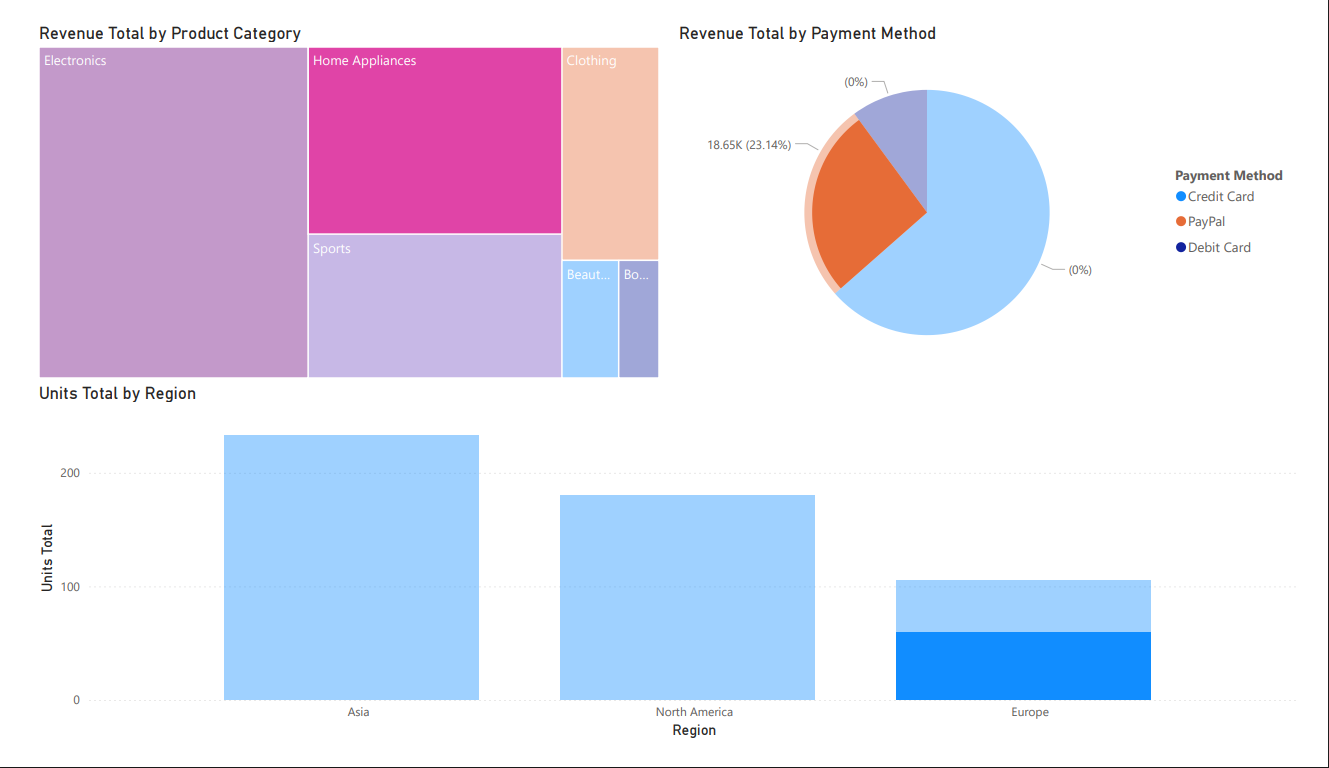

This screenshot's page, from the dashboard's own definition file:
{"tool":"powerbi","page":{"name":"Page 2","canvas":[1280,720],"ordinal":1},"visuals":[{"type":"treemap","fields":{"Group":["Online Sales Data.Product Category"],"Values":["Online Sales Data.Revenue Total"]},"box":[9.7,0,630.3,359.9],"z":0},{"type":"pieChart","fields":{"Category":["Online Sales Data.Payment Method"],"Y":["Online Sales Data.Revenue Total"]},"box":[649.7,0,630.3,359.9],"z":1},{"type":"clusteredColumnChart","fields":{"Category":["Online Sales Data.Region"],"Y":["Online Sales Data.Units Total"]},"box":[9.7,359.9,1270.3,359.9],"z":2}]}

Visuals, with their boxes in screenshot pixels (x1, y1, x2, y2), scaled from the page's 1280x720 canvas onto the 1329x768 screenshot:
treemap - Online Sales Data.Product Category x Online Sales Data.Revenue Total: BBox(10, 0, 664, 384)
pieChart - Online Sales Data.Payment Method x Online Sales Data.Revenue Total: BBox(675, 0, 1328, 384)
clusteredColumnChart - Online Sales Data.Region x Online Sales Data.Units Total: BBox(10, 384, 1328, 767)
